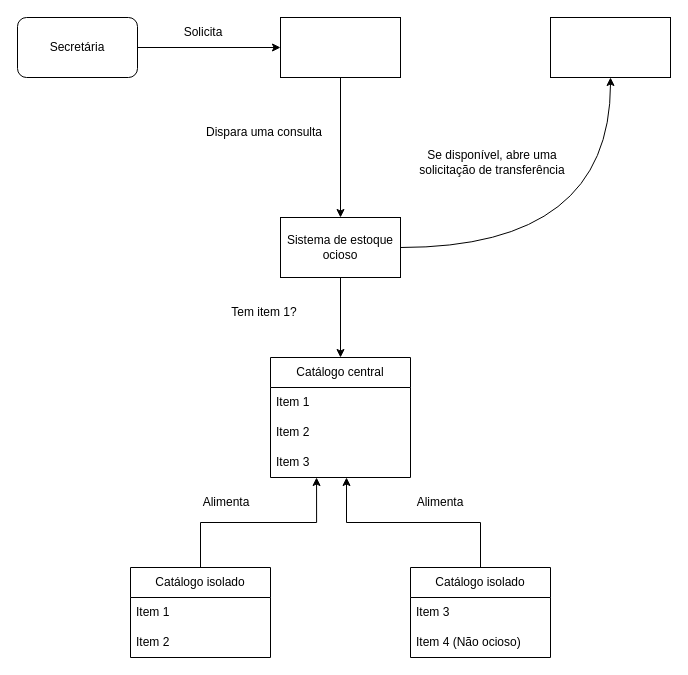
The diagram is 688 pixels wide and 675 high, and some of its shapes have lost their labels. Each missing label, with the centre of its shape:
"Sistema de compra" belongs at [340,47].
"Sistema de transferência" belongs at [610,47].
